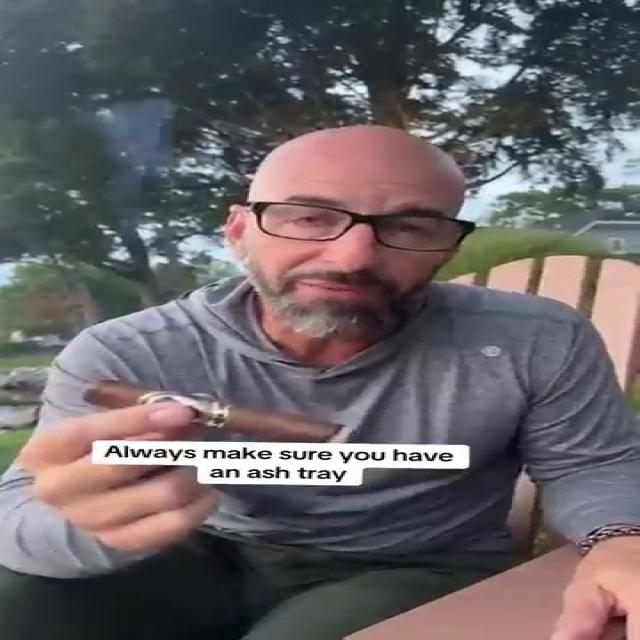Cigarette: (83, 378, 343, 447)
Hand: (10, 400, 226, 552)
Mouth: (285, 273, 391, 306)
